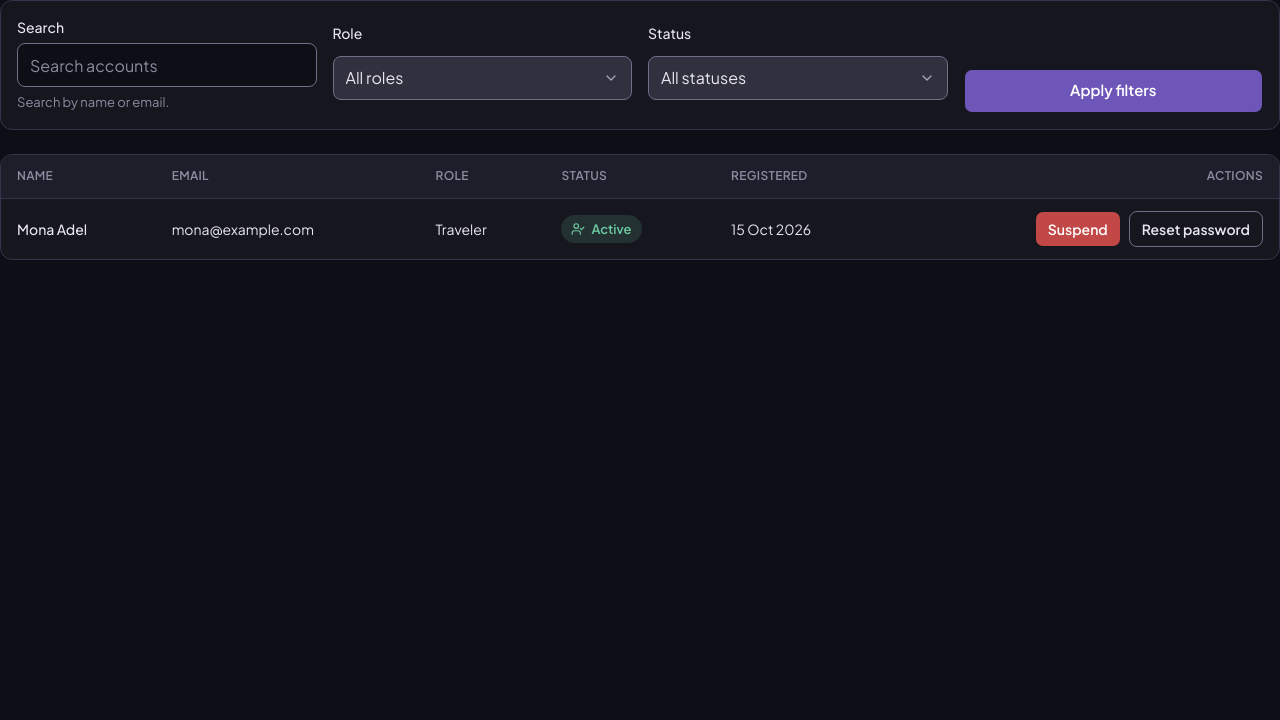
Test case: a rejected temporary password shows the field message from the backend
Click the button "Reset password": (1196, 229) [1129,211,1263,247]
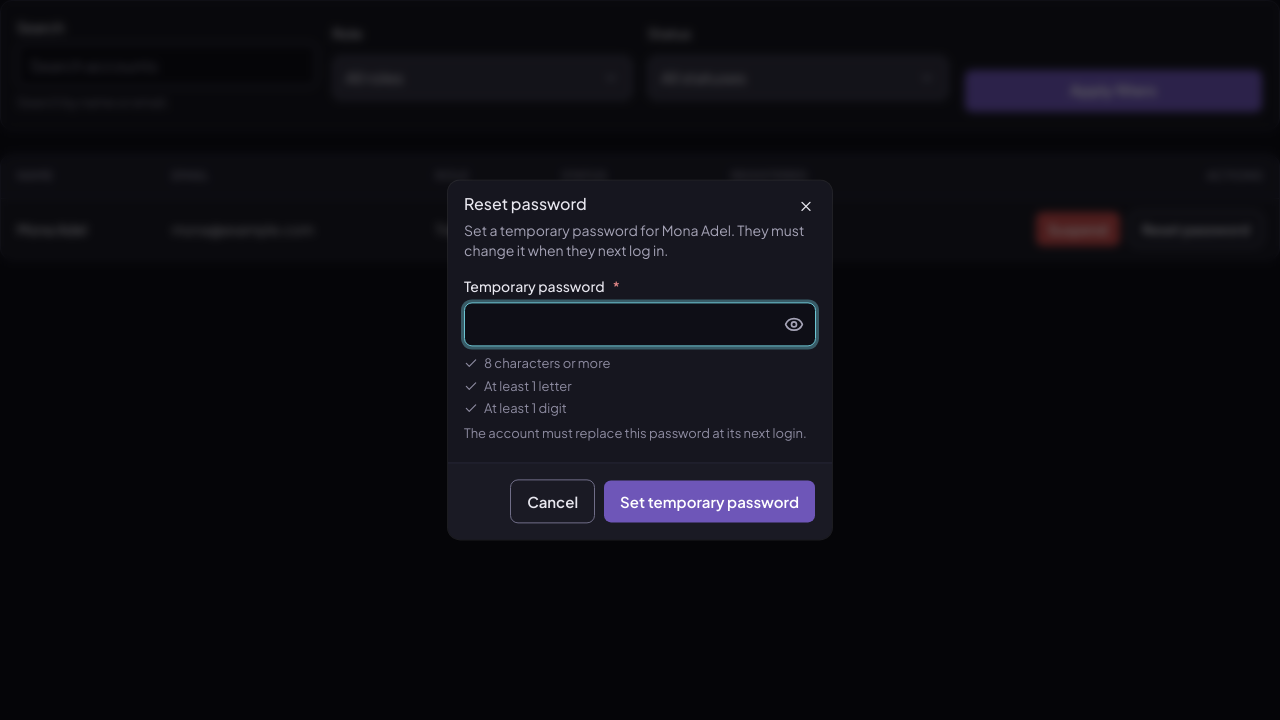
In the password field labelled "Temporary password *": (640, 324) [464,302,816,346], type "abcdefgh"
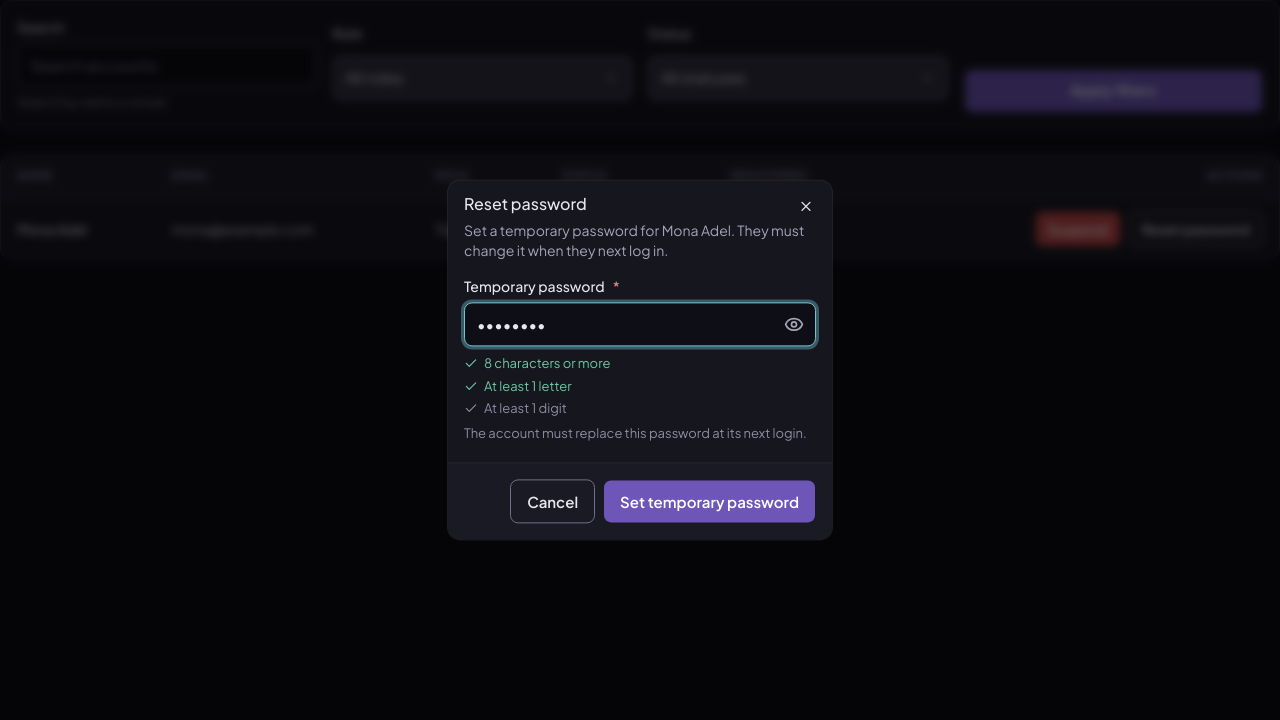
Submit the form labelled "Temporary password", box [464,276,816,524]
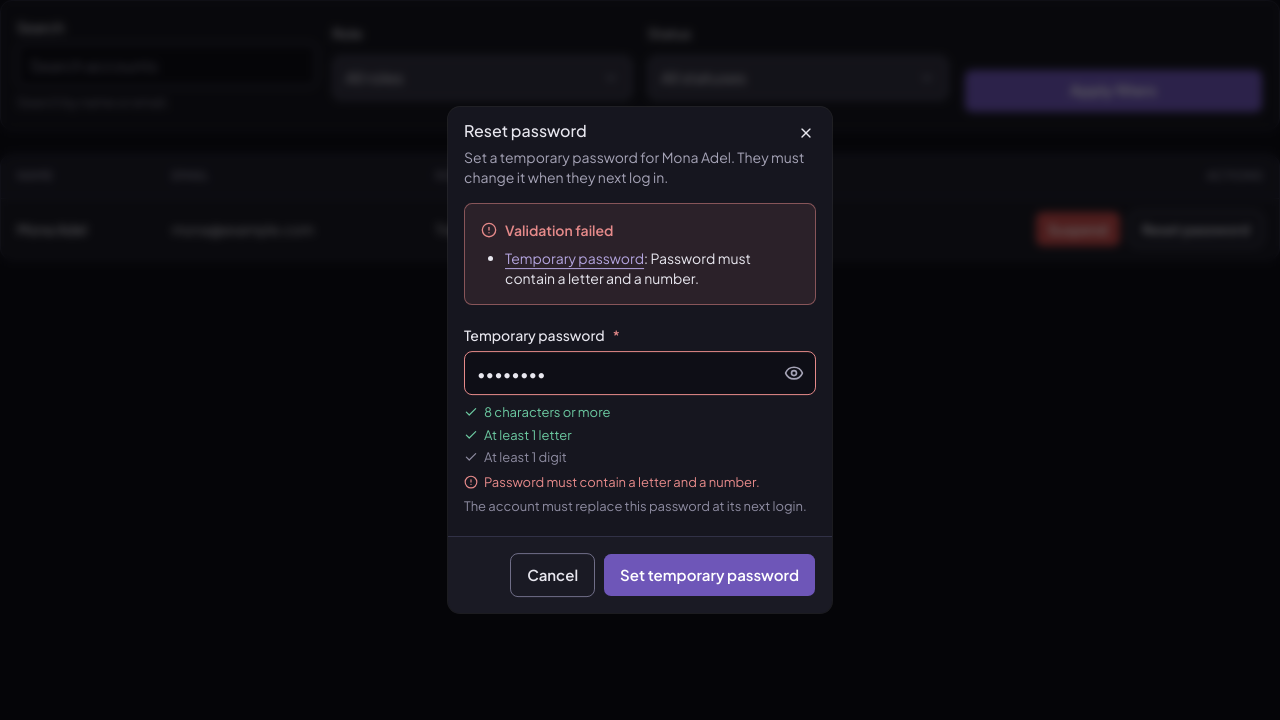
Now the text "Password must contain a letter and a number." is shown, box [464,474,760,490]
